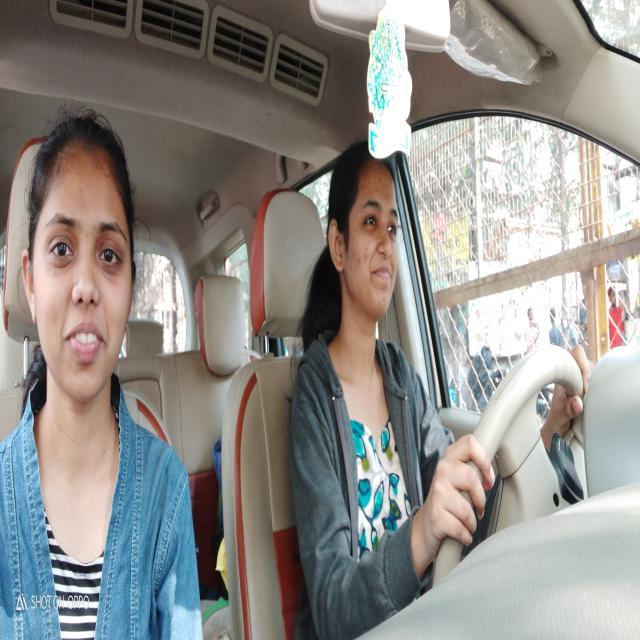person: (27, 124, 131, 395), (325, 143, 398, 315)
